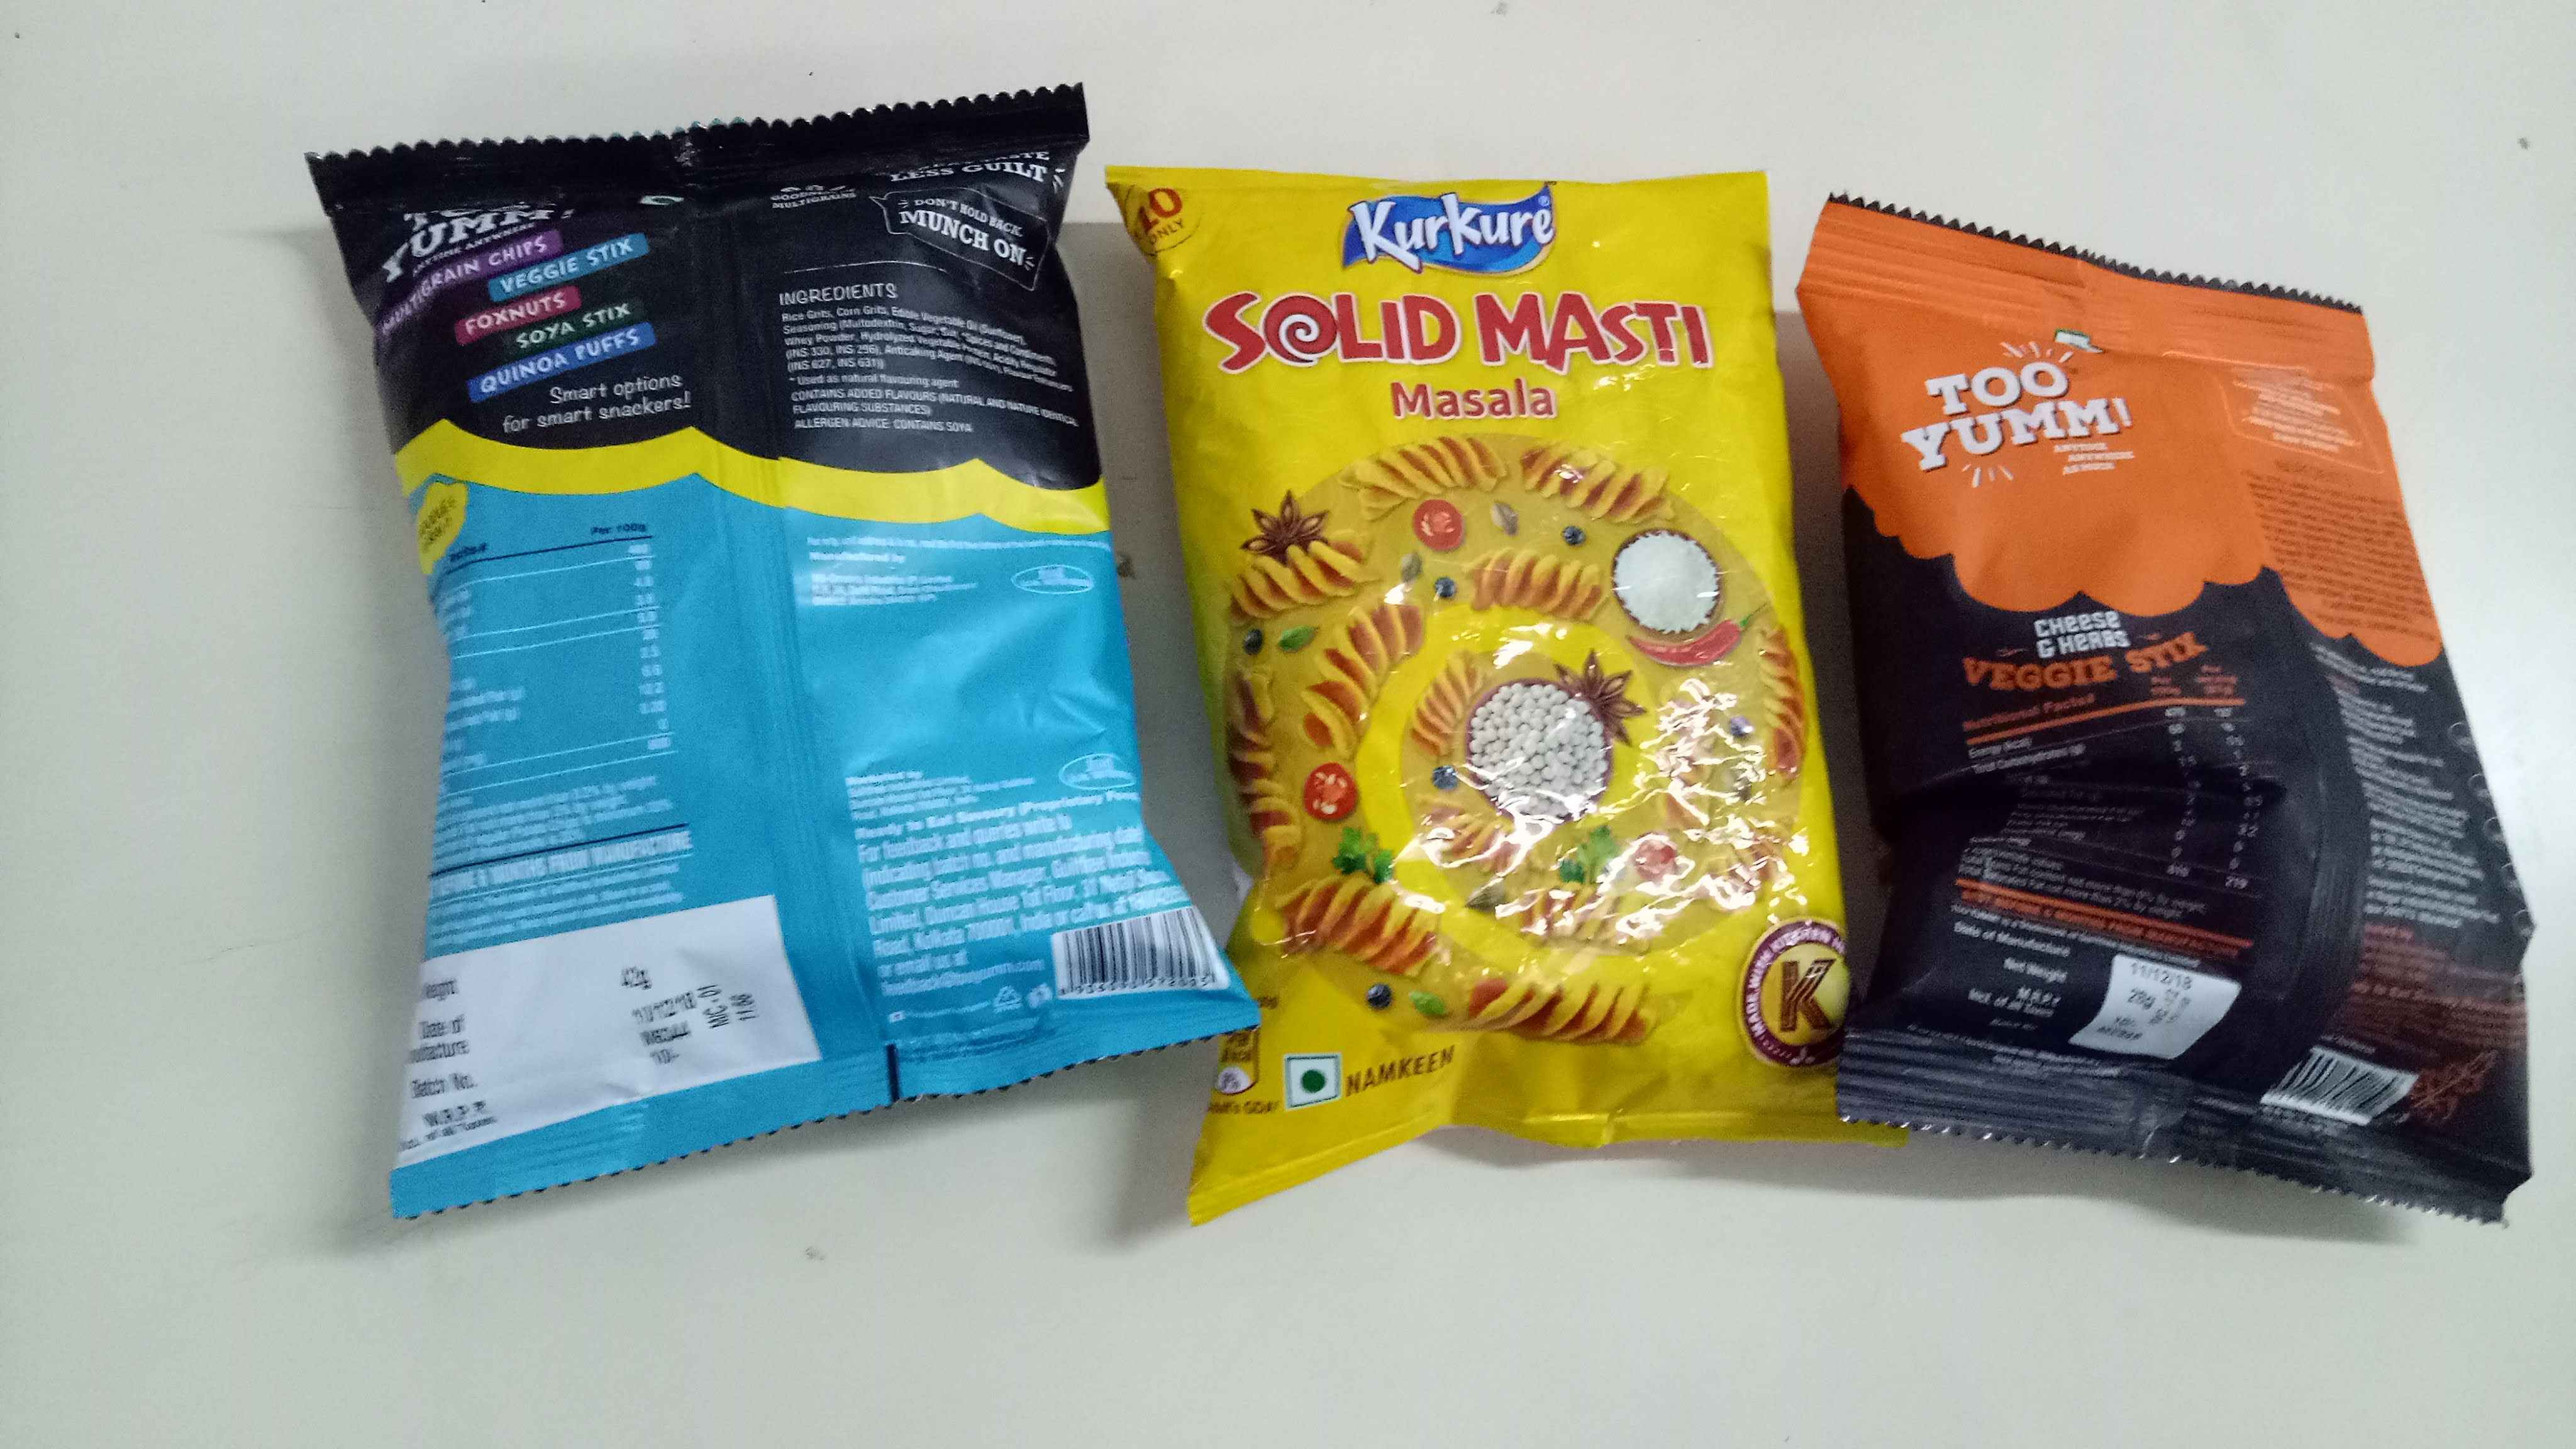kurkure: (1330, 175, 1596, 280)
tooyumm: (1902, 340, 2174, 501), (375, 163, 571, 297)
